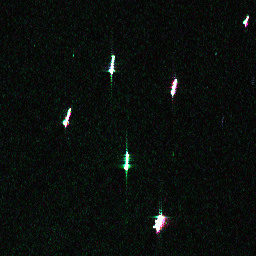ship: (151, 212, 168, 232), (60, 106, 74, 129), (168, 76, 180, 97), (107, 53, 117, 77), (122, 151, 131, 170), (241, 14, 250, 25)
